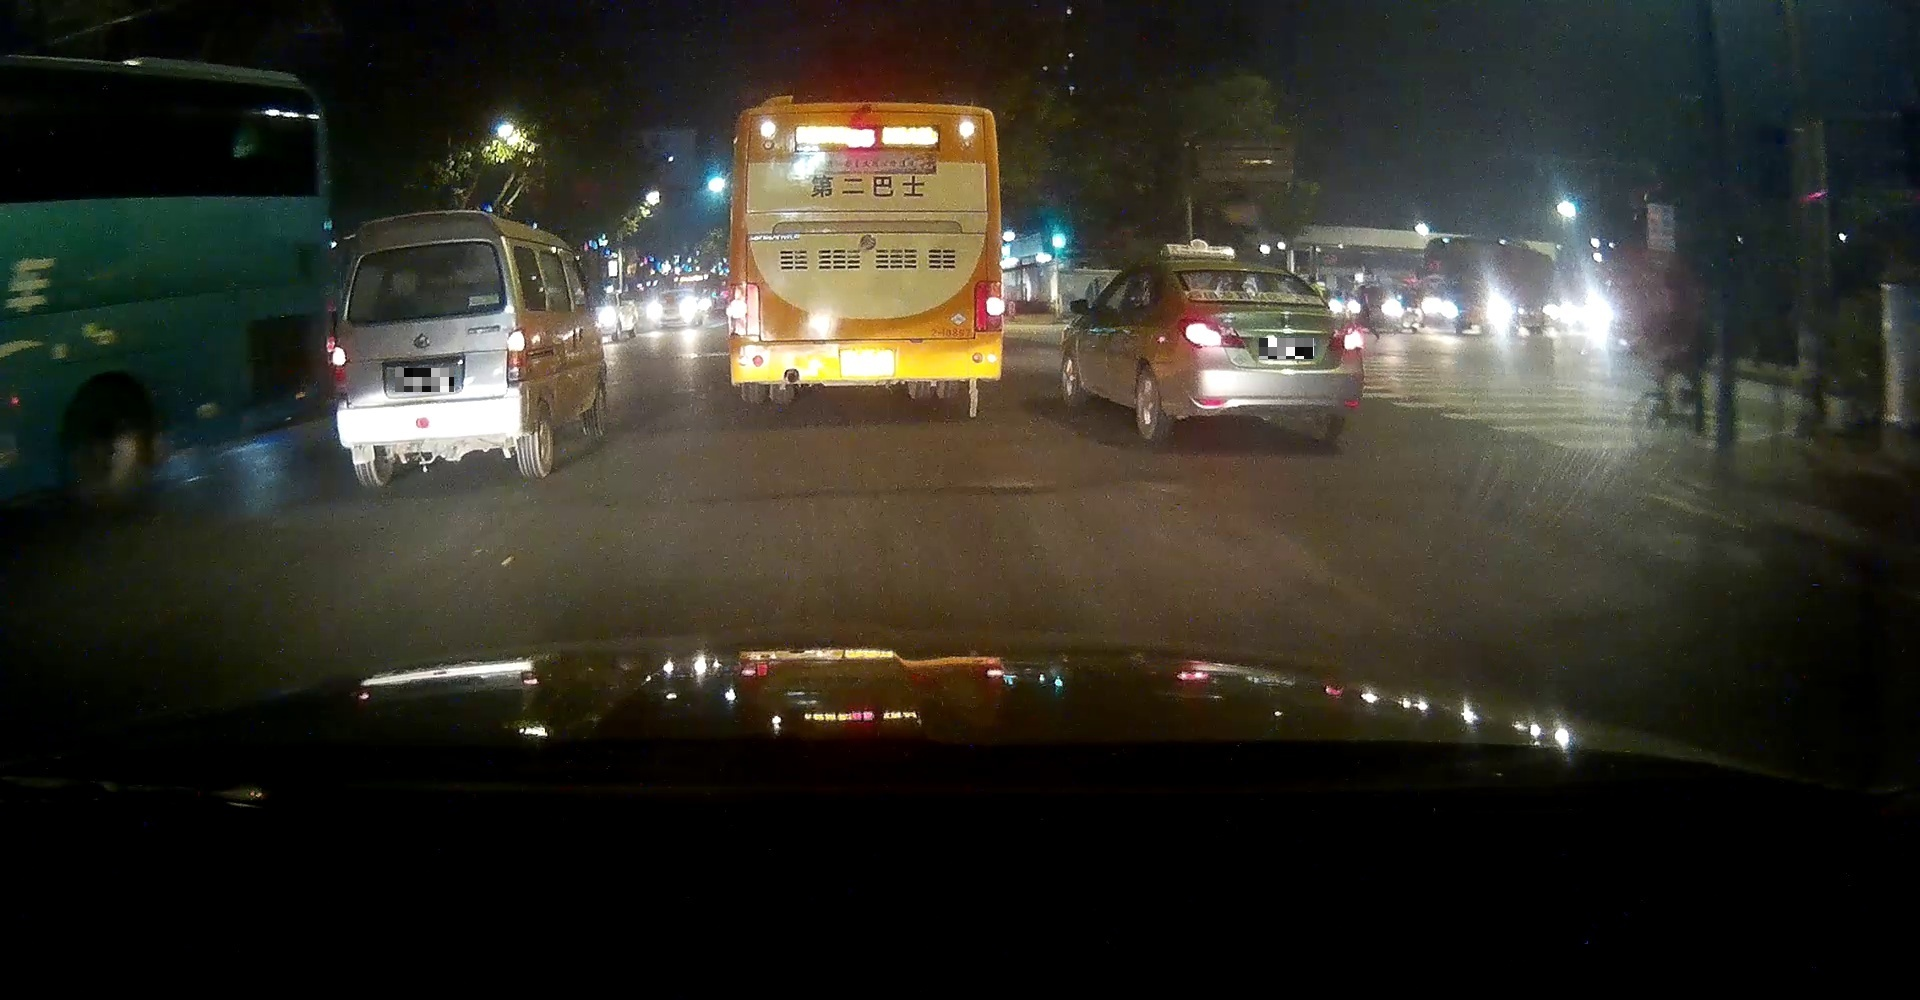L_light: (1176, 319, 1246, 348), (728, 283, 759, 336), (331, 346, 347, 398)
R_light: (974, 280, 1004, 331), (505, 327, 528, 382), (1327, 319, 1363, 352)
T_light: (847, 121, 879, 129), (410, 245, 436, 253), (1230, 270, 1253, 277)
night-no: (724, 102, 1004, 404), (330, 209, 530, 489), (1170, 259, 1364, 444)
plate_1: (395, 368, 455, 392)
plate_2: (1258, 338, 1314, 359)
